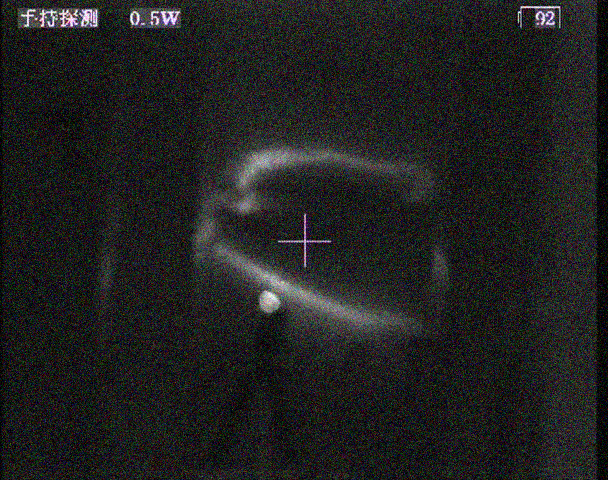my: (257, 289, 282, 313)
